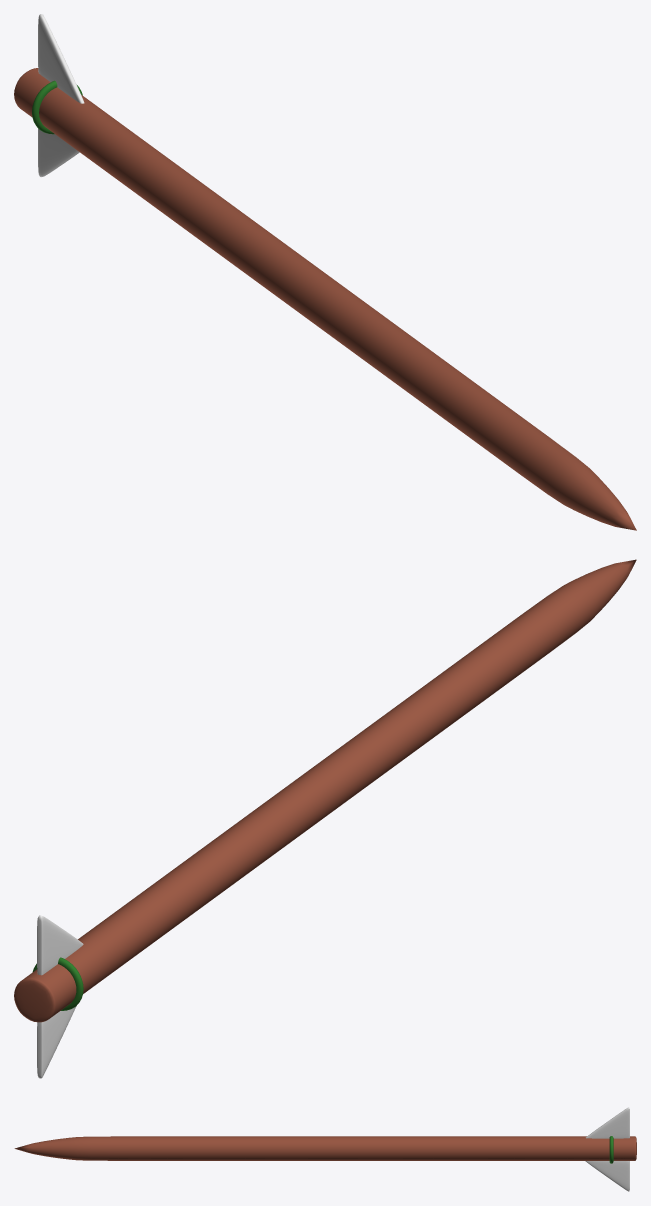
The model's file is Arrow.fbx.
3 renders of one model, top to bottom at view 1: azimuth 30°, elevation 25°; view 2: azimuth 150°, elevation 25°; view 3: azimuth 270°, elevation 25°, orthographic. The views are drawn at different scales.
Visible parts, largest first — view 1: Arrow; view 2: Arrow; view 3: Arrow.
Part boxes in pixels (box(x1,y1,x2,y2)): Arrow: box(14, 14, 636, 530); Arrow: box(14, 559, 636, 1078); Arrow: box(14, 1107, 636, 1191).
Size of the model in its own units: 4.57 by 13.97 by 94.04.
